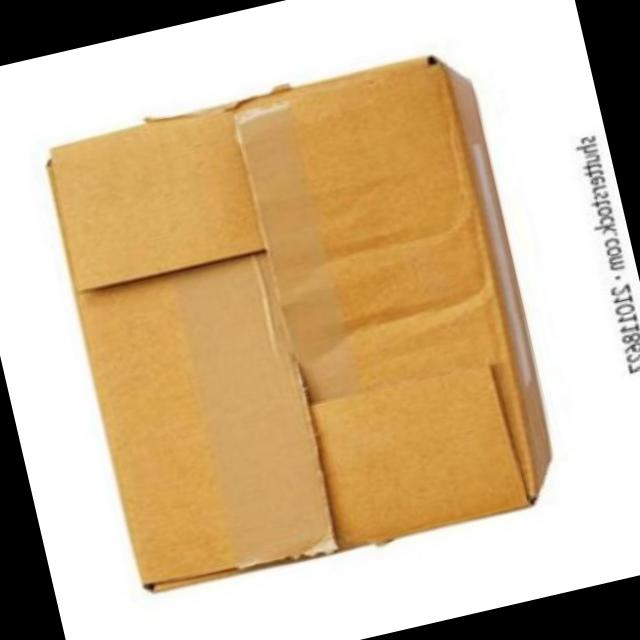box: (27, 29, 574, 612)
